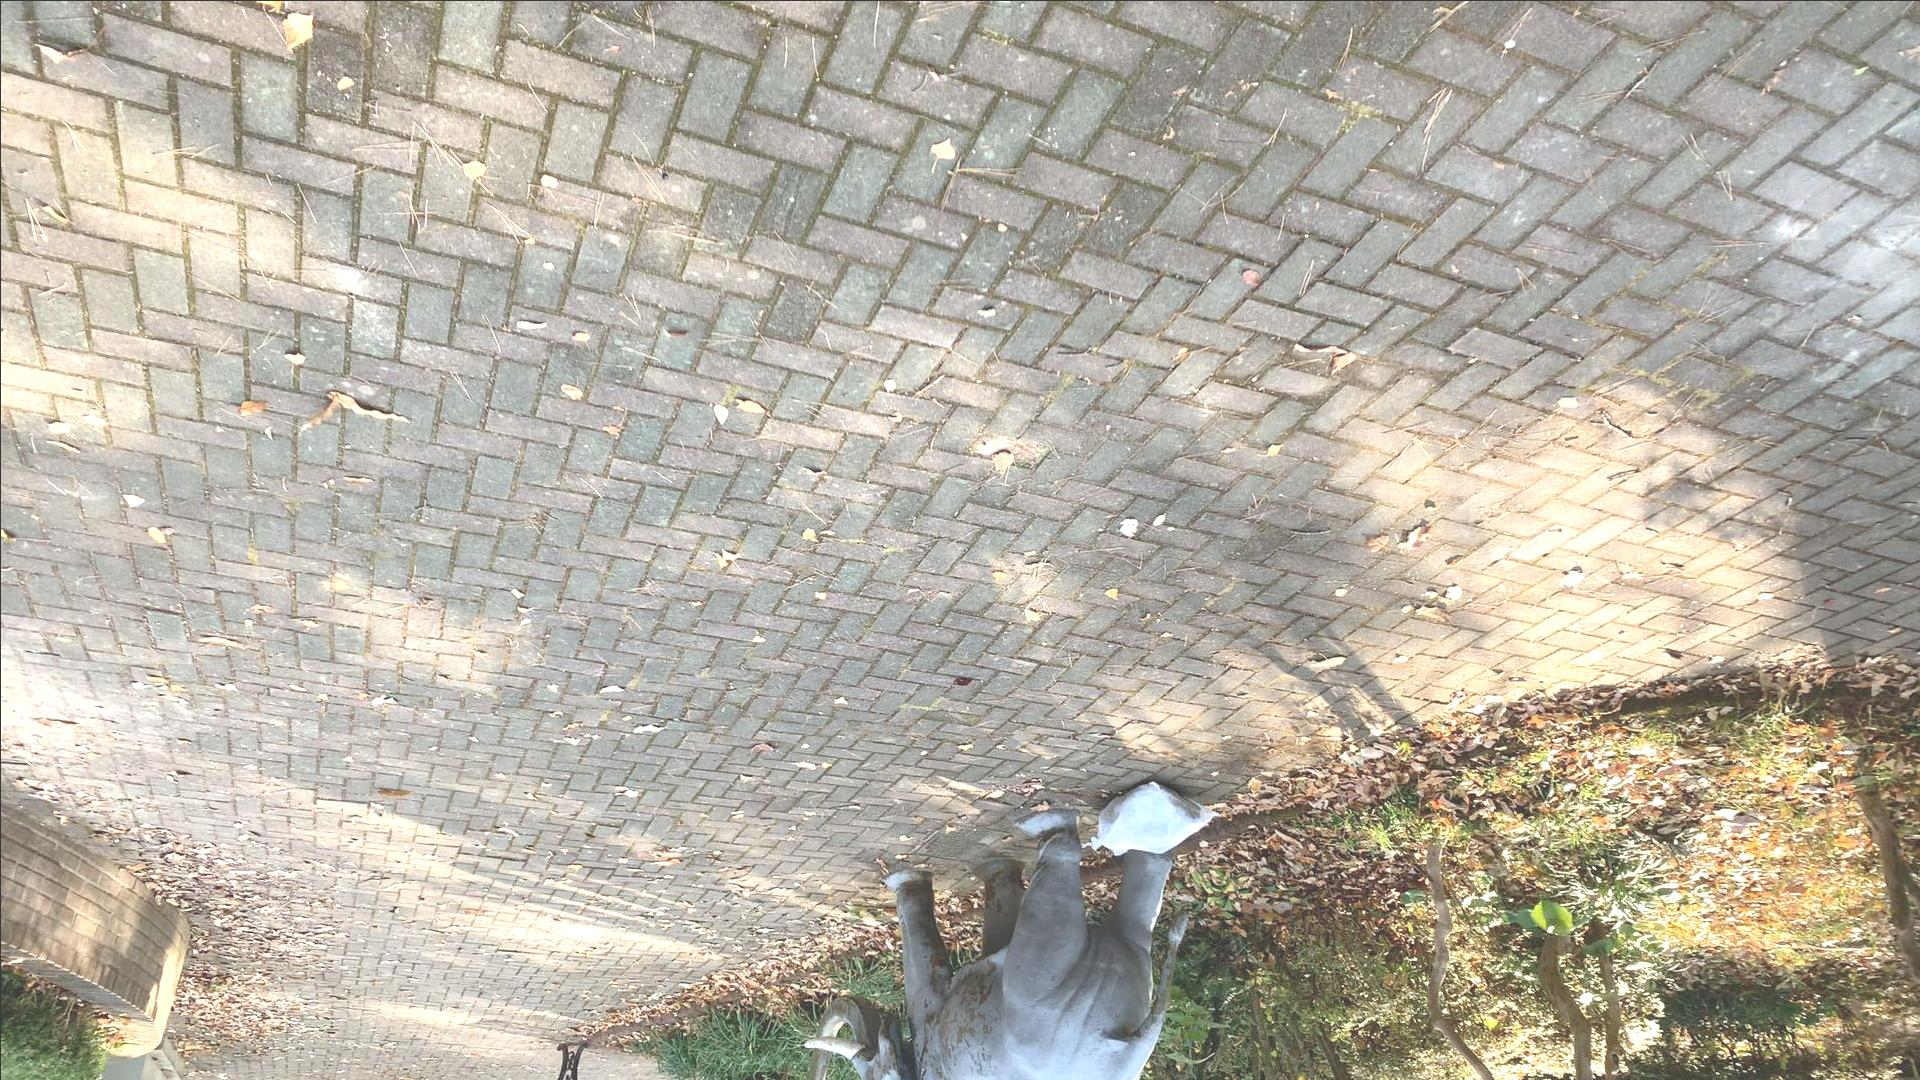white_bag: (1085, 778, 1222, 862)
